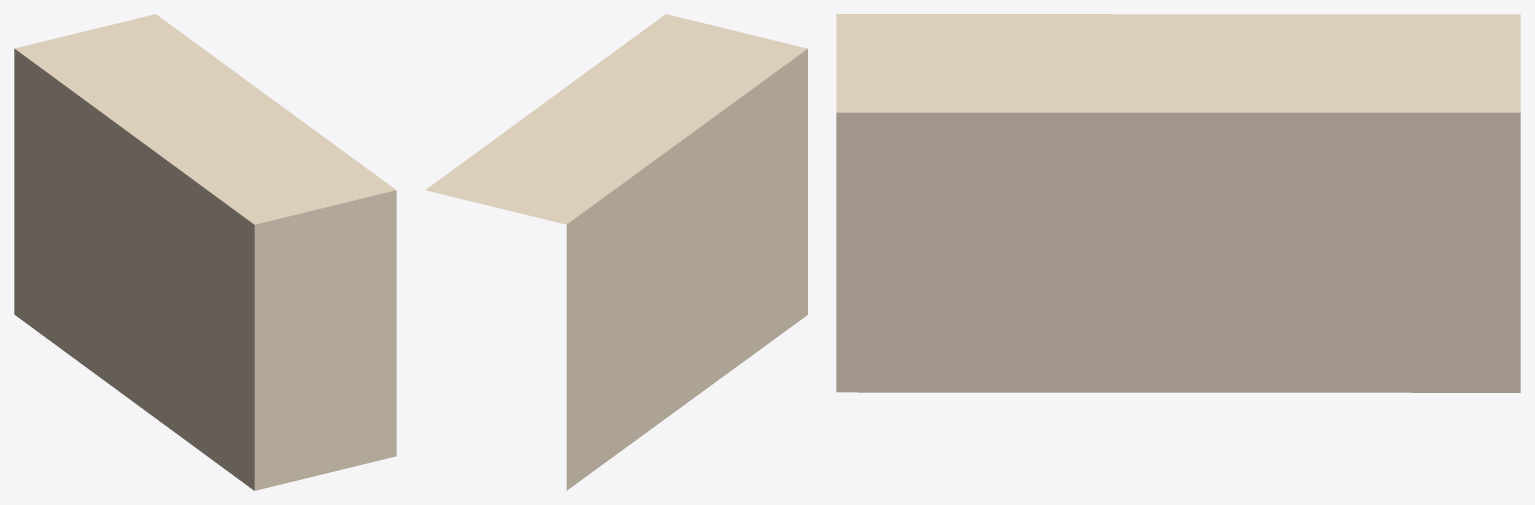
The model's file is Pared derecha.fbx.
3 views of the same model, side by side, from view 1: azimuth 30°, elevation 25°; view 2: azimuth 150°, elevation 25°; view 3: azimuth 270°, elevation 25° (orthographic). The views are drawn at different scales.
Visible parts, largest first — view 1: Paredes_Entrada; view 2: Paredes_Entrada; view 3: Paredes_Entrada.
Part boxes in pixels (x1,y1,x2,y2): Paredes_Entrada: (14,14,396,490); Paredes_Entrada: (425,14,807,490); Paredes_Entrada: (836,14,1520,392).
Size of the model in its own units: 676 by 1211 by 1985.
